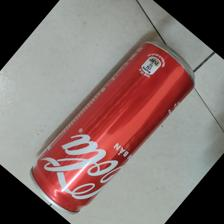Coca: (25, 40, 196, 215)
